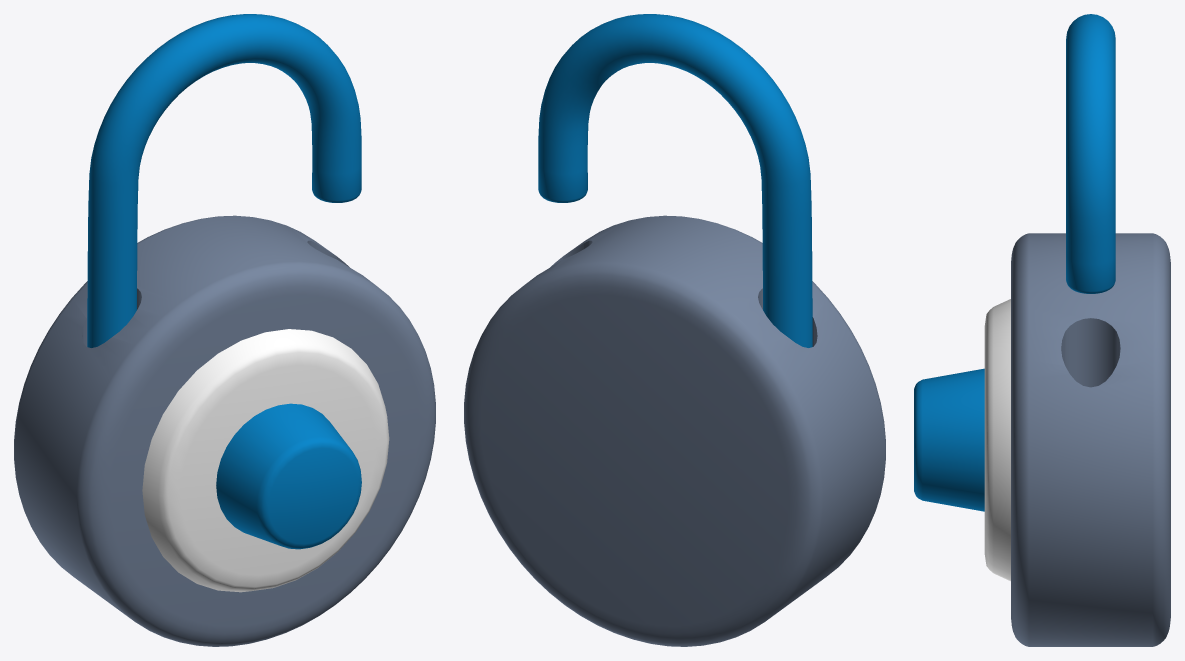
The model's file is lock.glb.
3 renders of one model, left to right at view 1: azimuth 30°, elevation 25°; view 2: azimuth 150°, elevation 25°; view 3: azimuth 270°, elevation 25°, orthographic.
Parts seen in each view (by area): view 1: Cylinder.040, Cylinder.041, Circle.002, Cylinder.042; view 2: Cylinder.040, Circle.002; view 3: Cylinder.040, Circle.002, Cylinder.042, Cylinder.041.
Boxes of the visible parts, x1=… form: Cylinder.040: x1=14, y1=215, x2=435, y2=646; Cylinder.041: x1=142, y1=329, x2=389, y2=592; Circle.002: x1=87, y1=14, x2=361, y2=347; Cylinder.042: x1=216, y1=403, x2=361, y2=549; Cylinder.040: x1=464, y1=215, x2=885, y2=646; Circle.002: x1=538, y1=14, x2=812, y2=347; Cylinder.040: x1=1011, y1=233, x2=1170, y2=646; Circle.002: x1=1066, y1=14, x2=1115, y2=293; Cylinder.042: x1=914, y1=368, x2=984, y2=511; Cylinder.041: x1=984, y1=299, x2=1010, y2=581.
Bounding box in the file's own units: 11.37 × 18.19 × 7.06.
